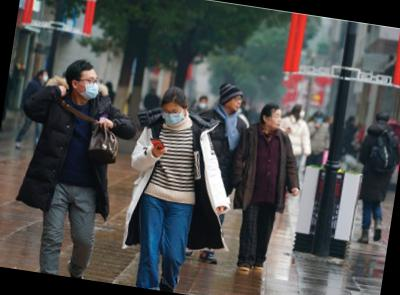with_mask: (79, 74, 101, 102), (161, 106, 186, 127), (197, 98, 209, 112), (296, 106, 307, 120), (316, 114, 326, 126), (42, 72, 50, 85)
without_mask: (266, 110, 285, 132), (227, 94, 244, 114)
